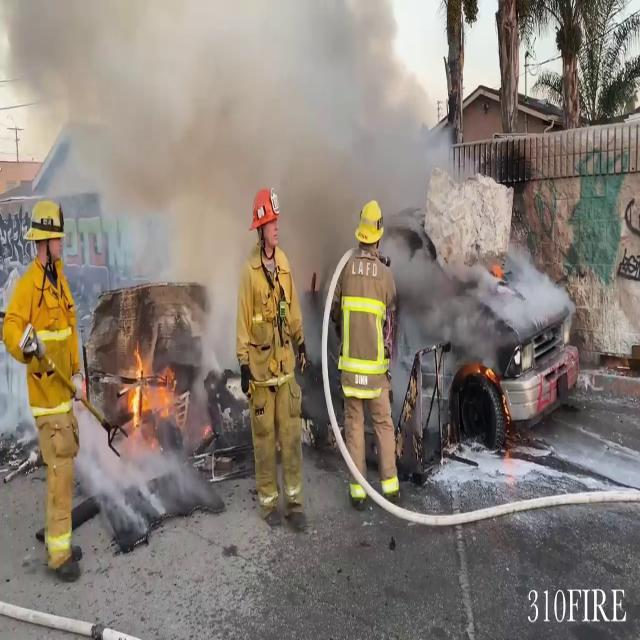Fire: (123, 336, 185, 436)
Smoke: (0, 0, 484, 308)
